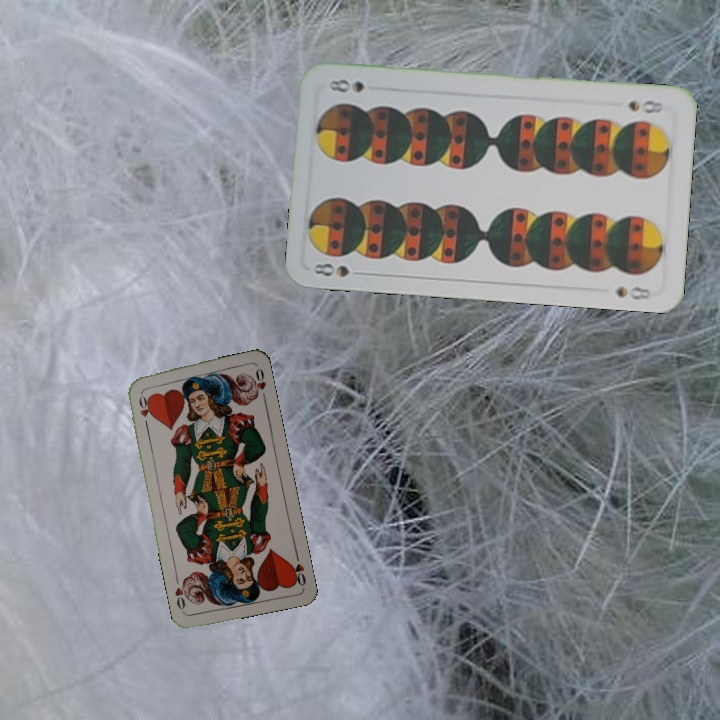HO: (287, 549, 308, 589), (135, 388, 153, 429)
S8: (310, 259, 368, 280), (624, 96, 667, 117)
